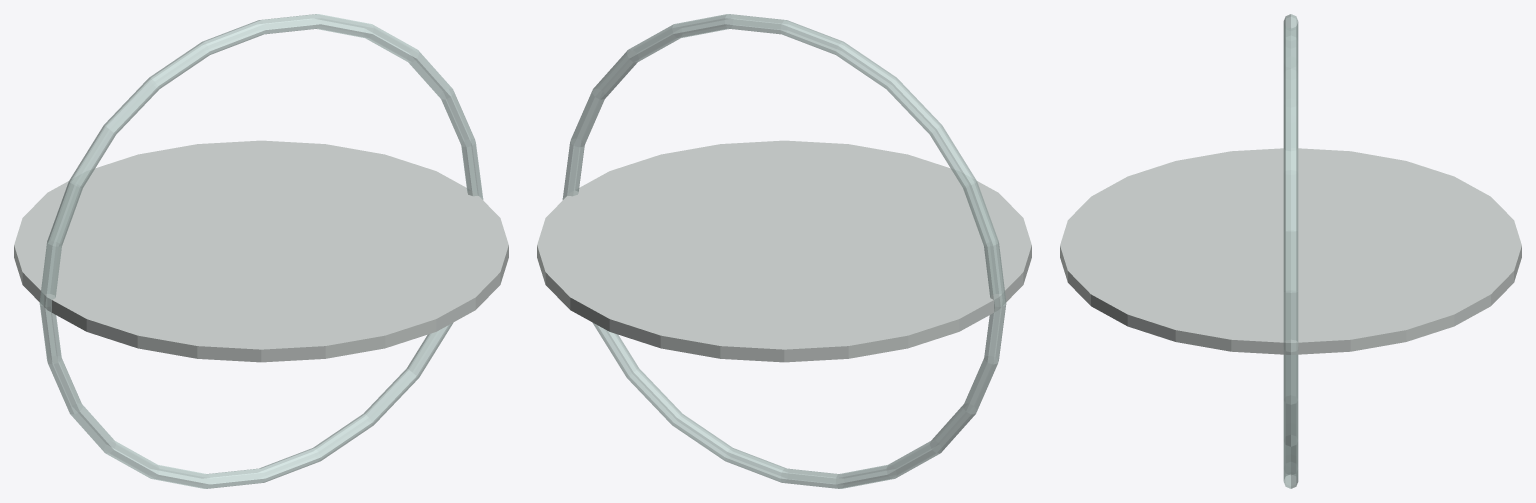
Rendered from prop_empty_dish.glb.
The picture shows the model from 3 angles, left to right: view 1: azimuth 30°, elevation 25°; view 2: azimuth 150°, elevation 25°; view 3: azimuth 270°, elevation 25°; orthographic projection. The views are drawn at different scales.
Visible parts, largest first — view 1: PropEmptyDish_Body; view 2: PropEmptyDish_Body; view 3: PropEmptyDish_Body.
Part boxes in pixels (<box>): PropEmptyDish_Body: <box>14,14,508,488</box>; PropEmptyDish_Body: <box>537,14,1031,488</box>; PropEmptyDish_Body: <box>1060,14,1521,488</box>.
Size of the model in its own units: 2.89 by 2.89 by 2.8.
